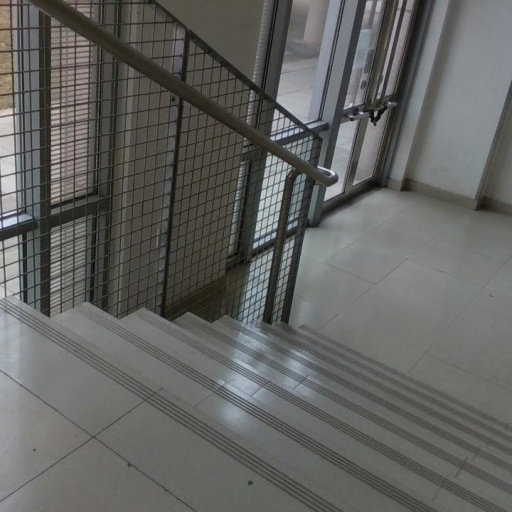Stairs: (0, 298, 512, 512)
